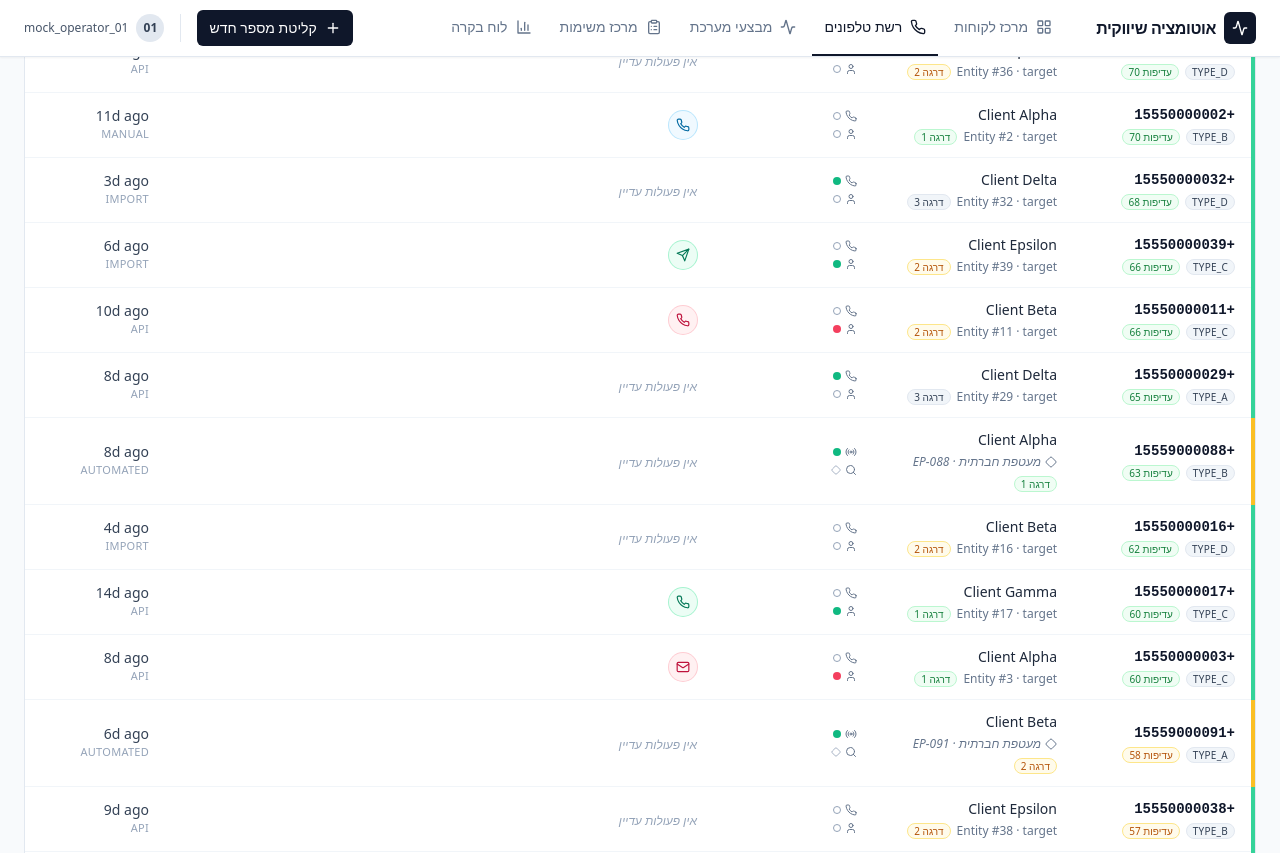
Test case: Phase DY-4-C — Vector B (envelope) verdict form › renders phone-in-network axis label + Identify form
This screenshot has width=1280, height=853.
(page scrolled)
// Open the seeded envelope row.
Click the text "+15559000088": (1185, 450) 1134,442 -> 1235,458
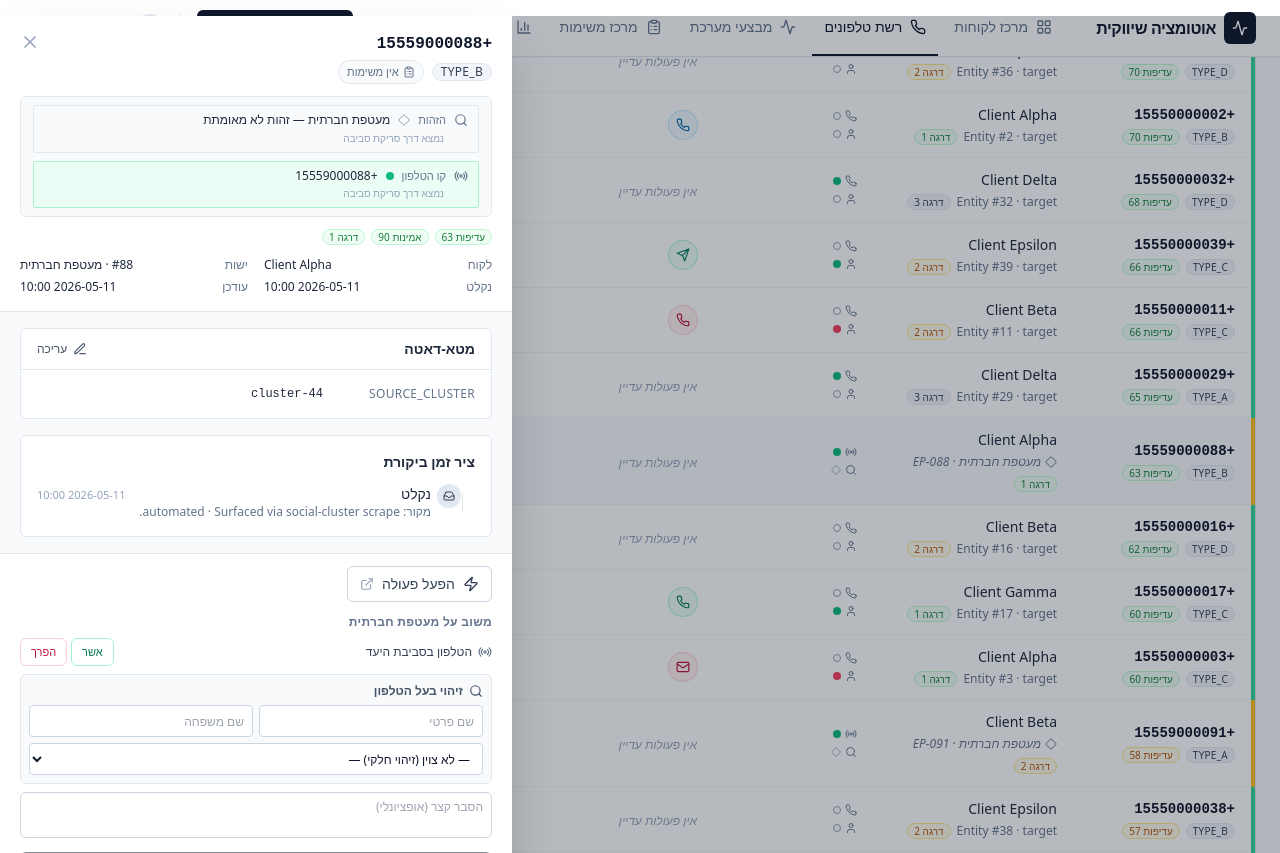
expect the heading "משוב על מעטפת חברתית" is shown: met, box 349,613 -> 492,630
expect the text "זיהוי בעל הטלפון" is shown: met, box 374,682 -> 483,699
expect the field with placeholder "שם פרטי" is shown: met, box 259,705 -> 483,737
